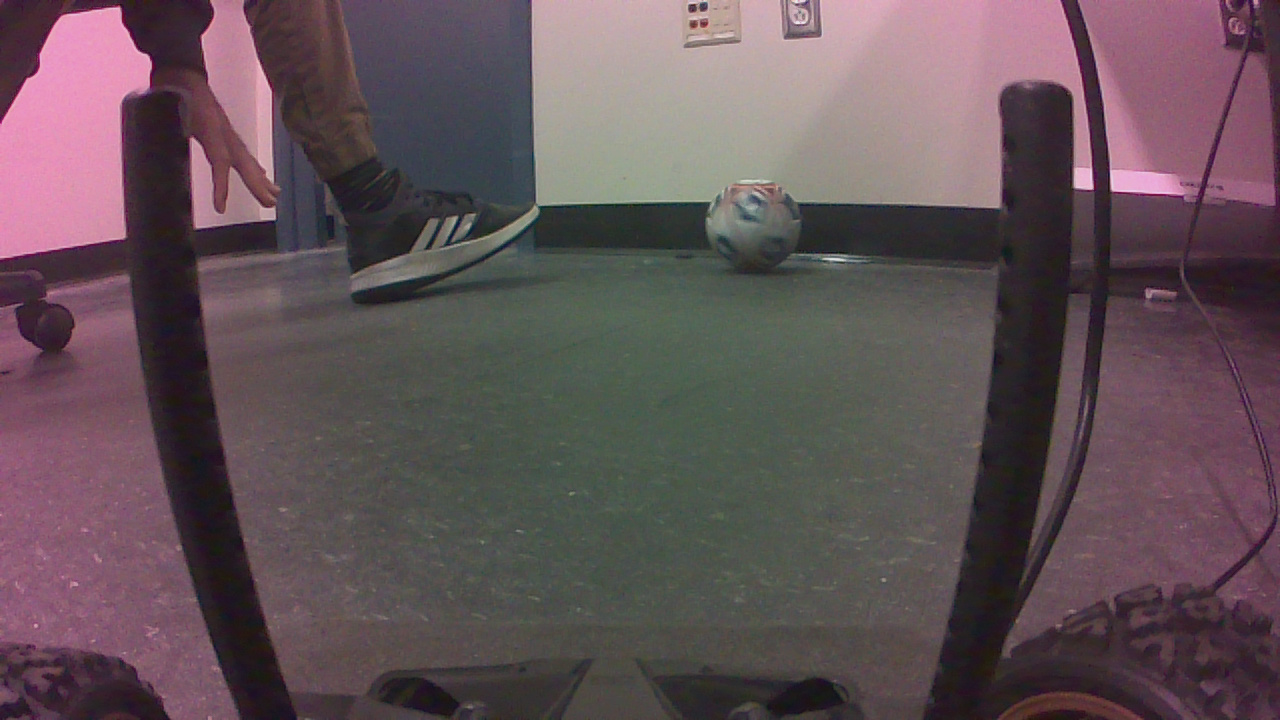ball: (706, 176, 811, 283)
